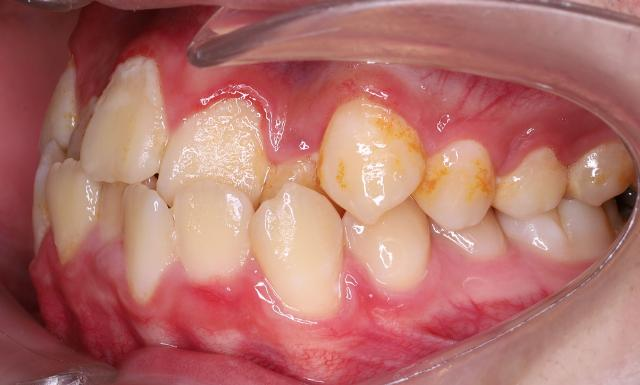canine class III 1/4: (254, 95, 433, 331)
molar class III 1/2: (496, 135, 636, 265)
